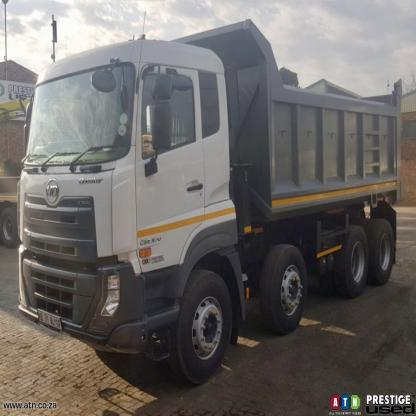dump_truck: (12, 11, 412, 388)
